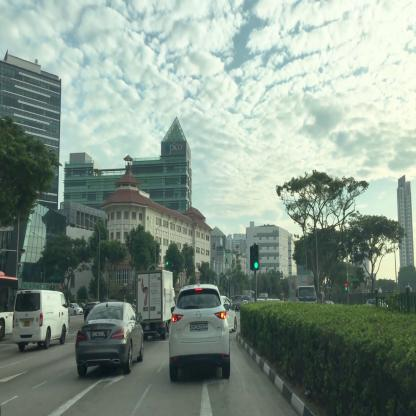green_traffic_light: (253, 243, 259, 270)
